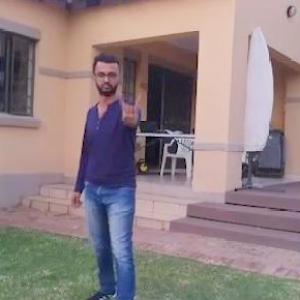takeoff-hand: (115, 86, 151, 129)
